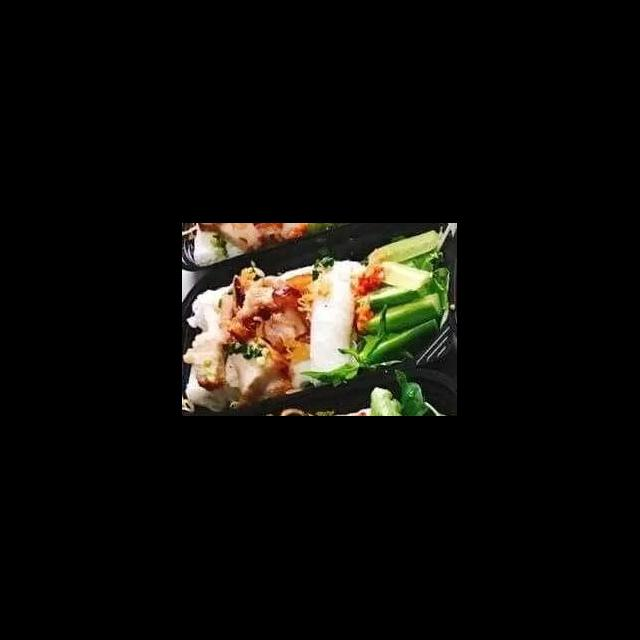banh hoi: (306, 256, 364, 376)
banh hoi heo quay: (187, 256, 441, 404)
thit heo quay: (230, 334, 294, 404), (193, 334, 236, 394)
